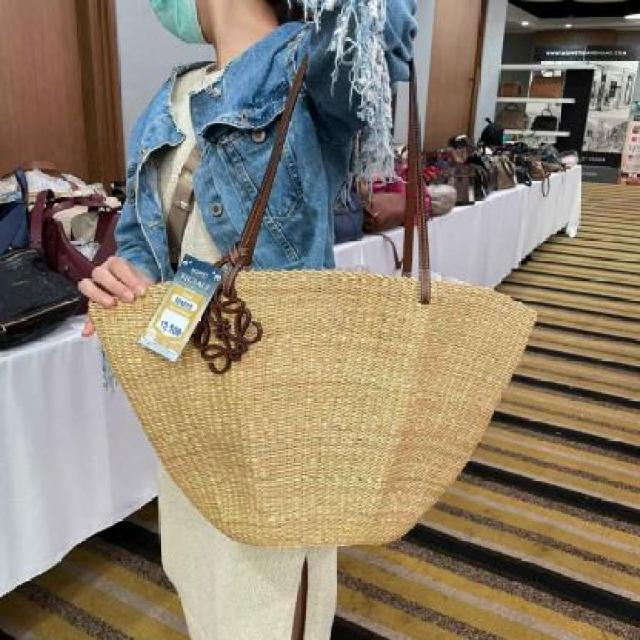Bag: (76, 7, 570, 579)
